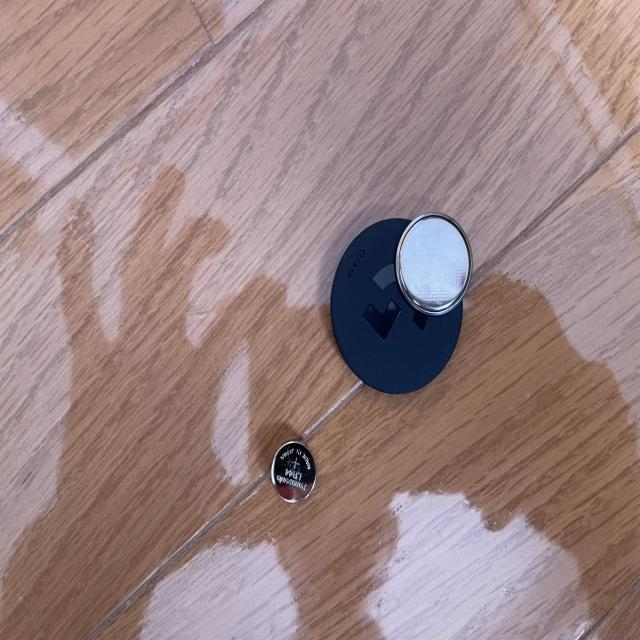COIN: (396, 210, 473, 316), (270, 441, 317, 504)
